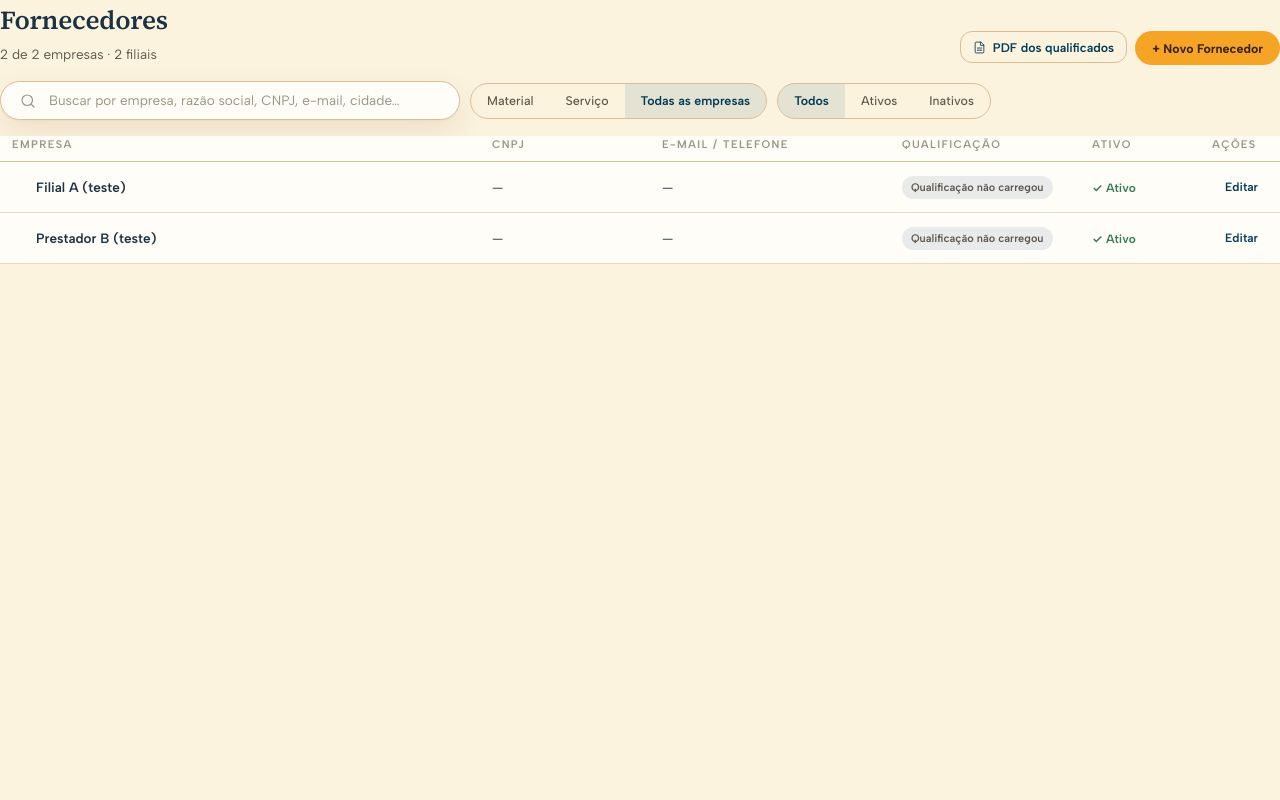
Test: D613 §2 — a ficha da empresa, aberta da gaveta da filial › com as qualificações fora do ar, a ficha diz que não carregaram, e não oferece gravar
This screenshot has width=1280, height=800.
Click the button "Editar" in the row of "Filial A (teste)". click: (1242, 187)
box: [1215, 173, 1268, 201]
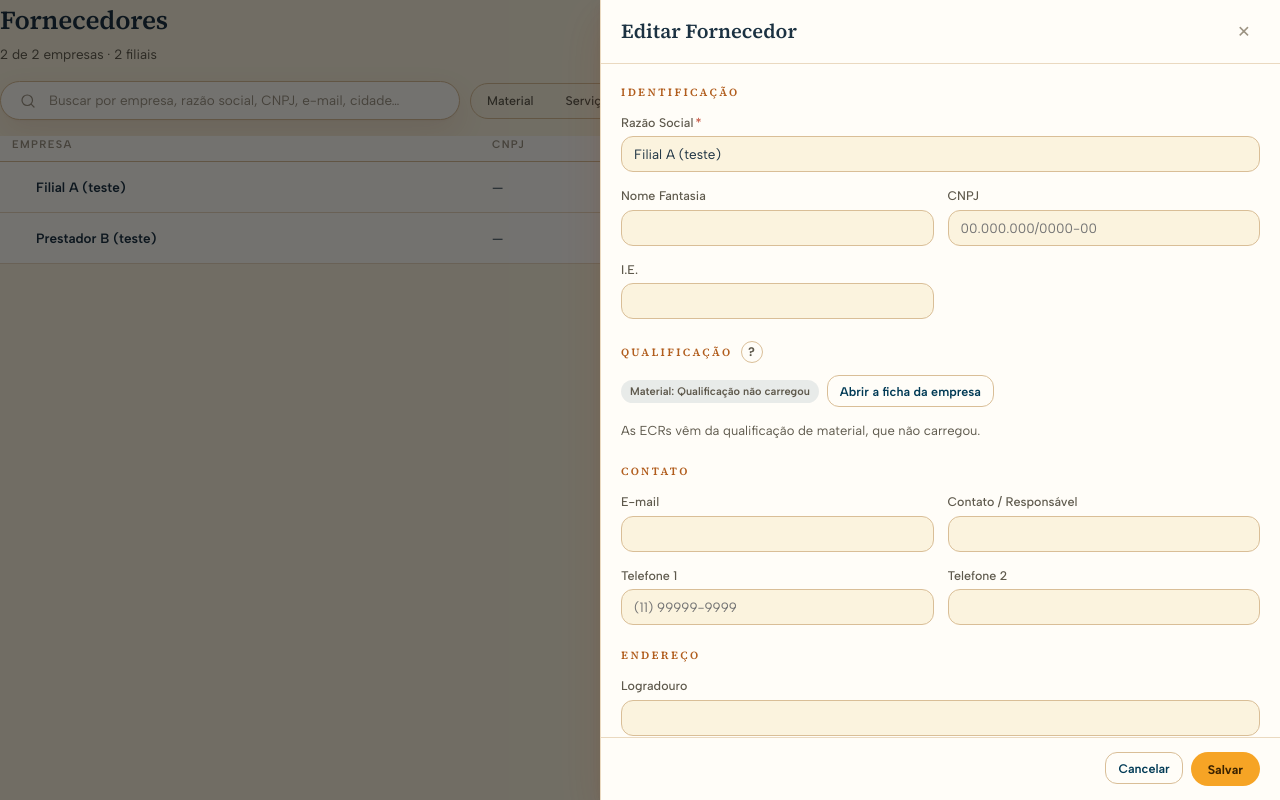
Click the button "Abrir a ficha da empresa". click: (910, 391)
box: [827, 375, 994, 407]
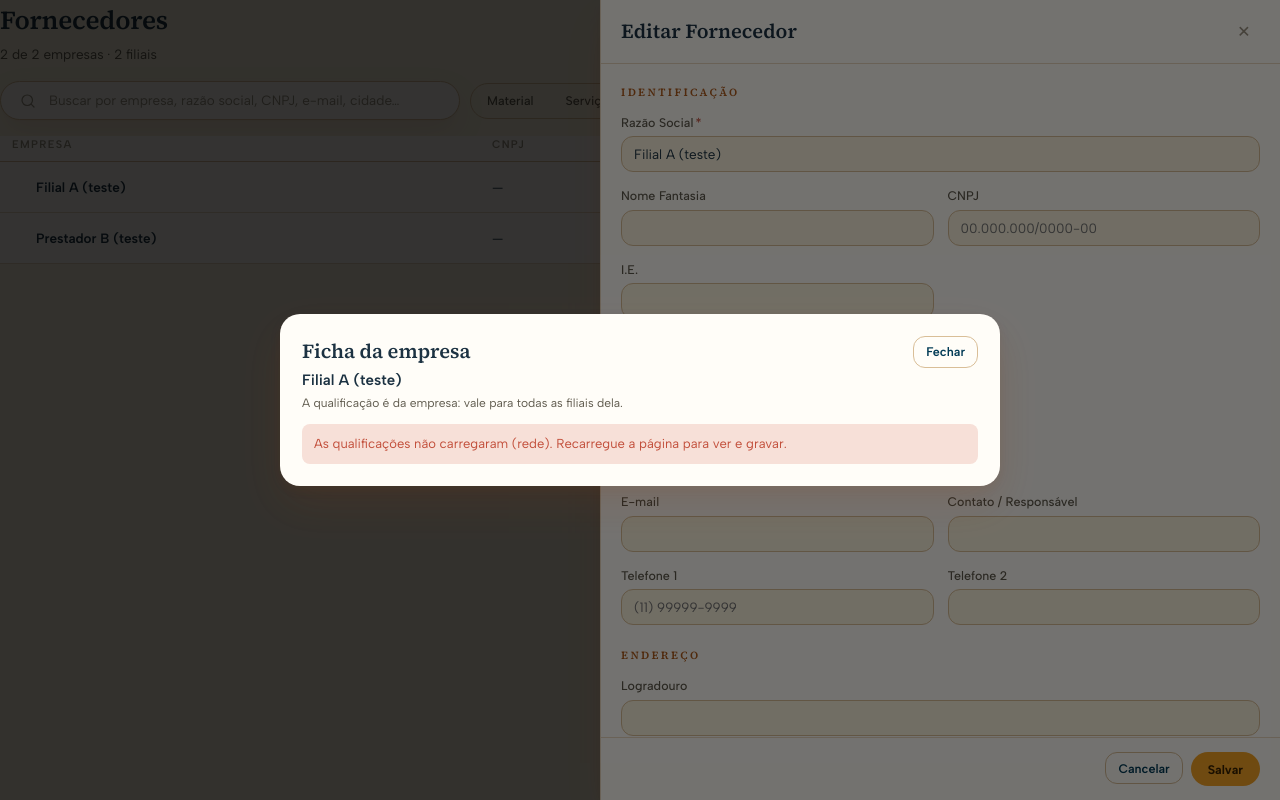
Check: the message shows "As qualificações não carregaram (rede)", box [302, 424, 978, 464]
